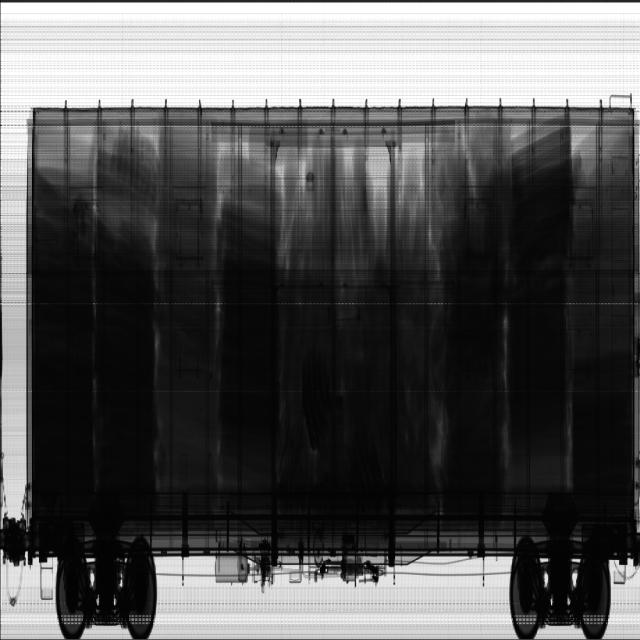textiles: (32, 121, 633, 514)
